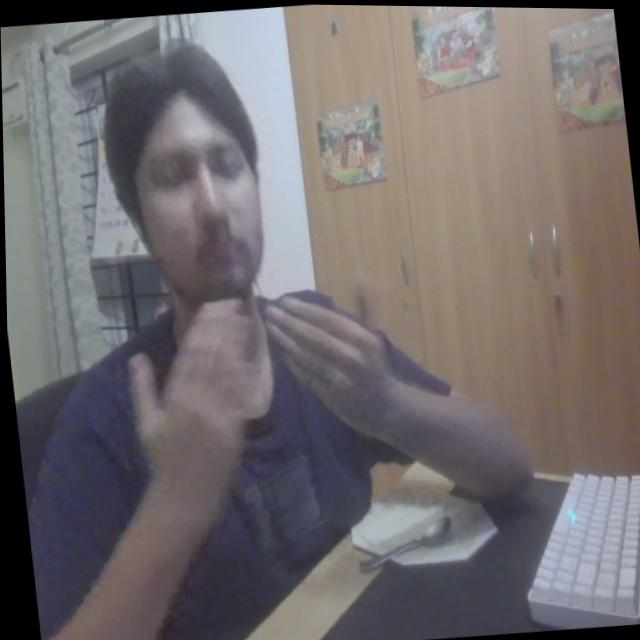thankyou: (112, 273, 407, 541)
